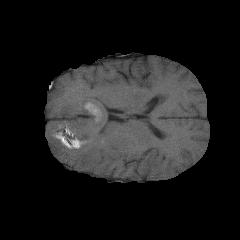glioma: (48, 95, 128, 173)
